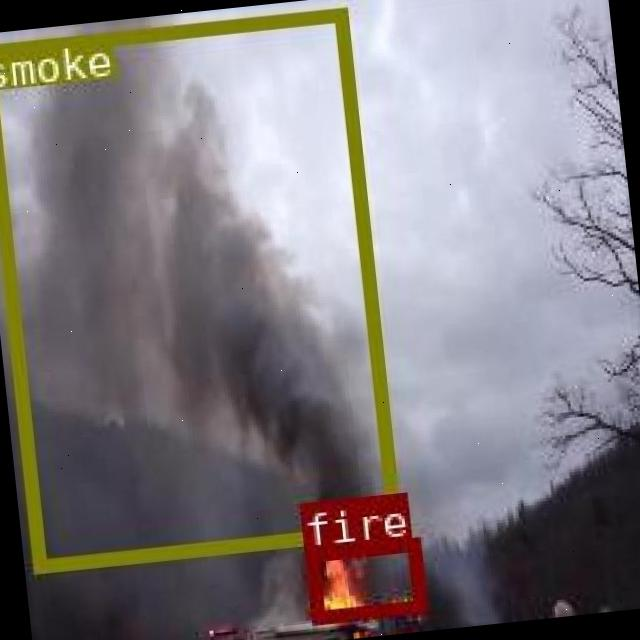fire: (302, 534, 423, 622)
smoke: (0, 5, 397, 570)
